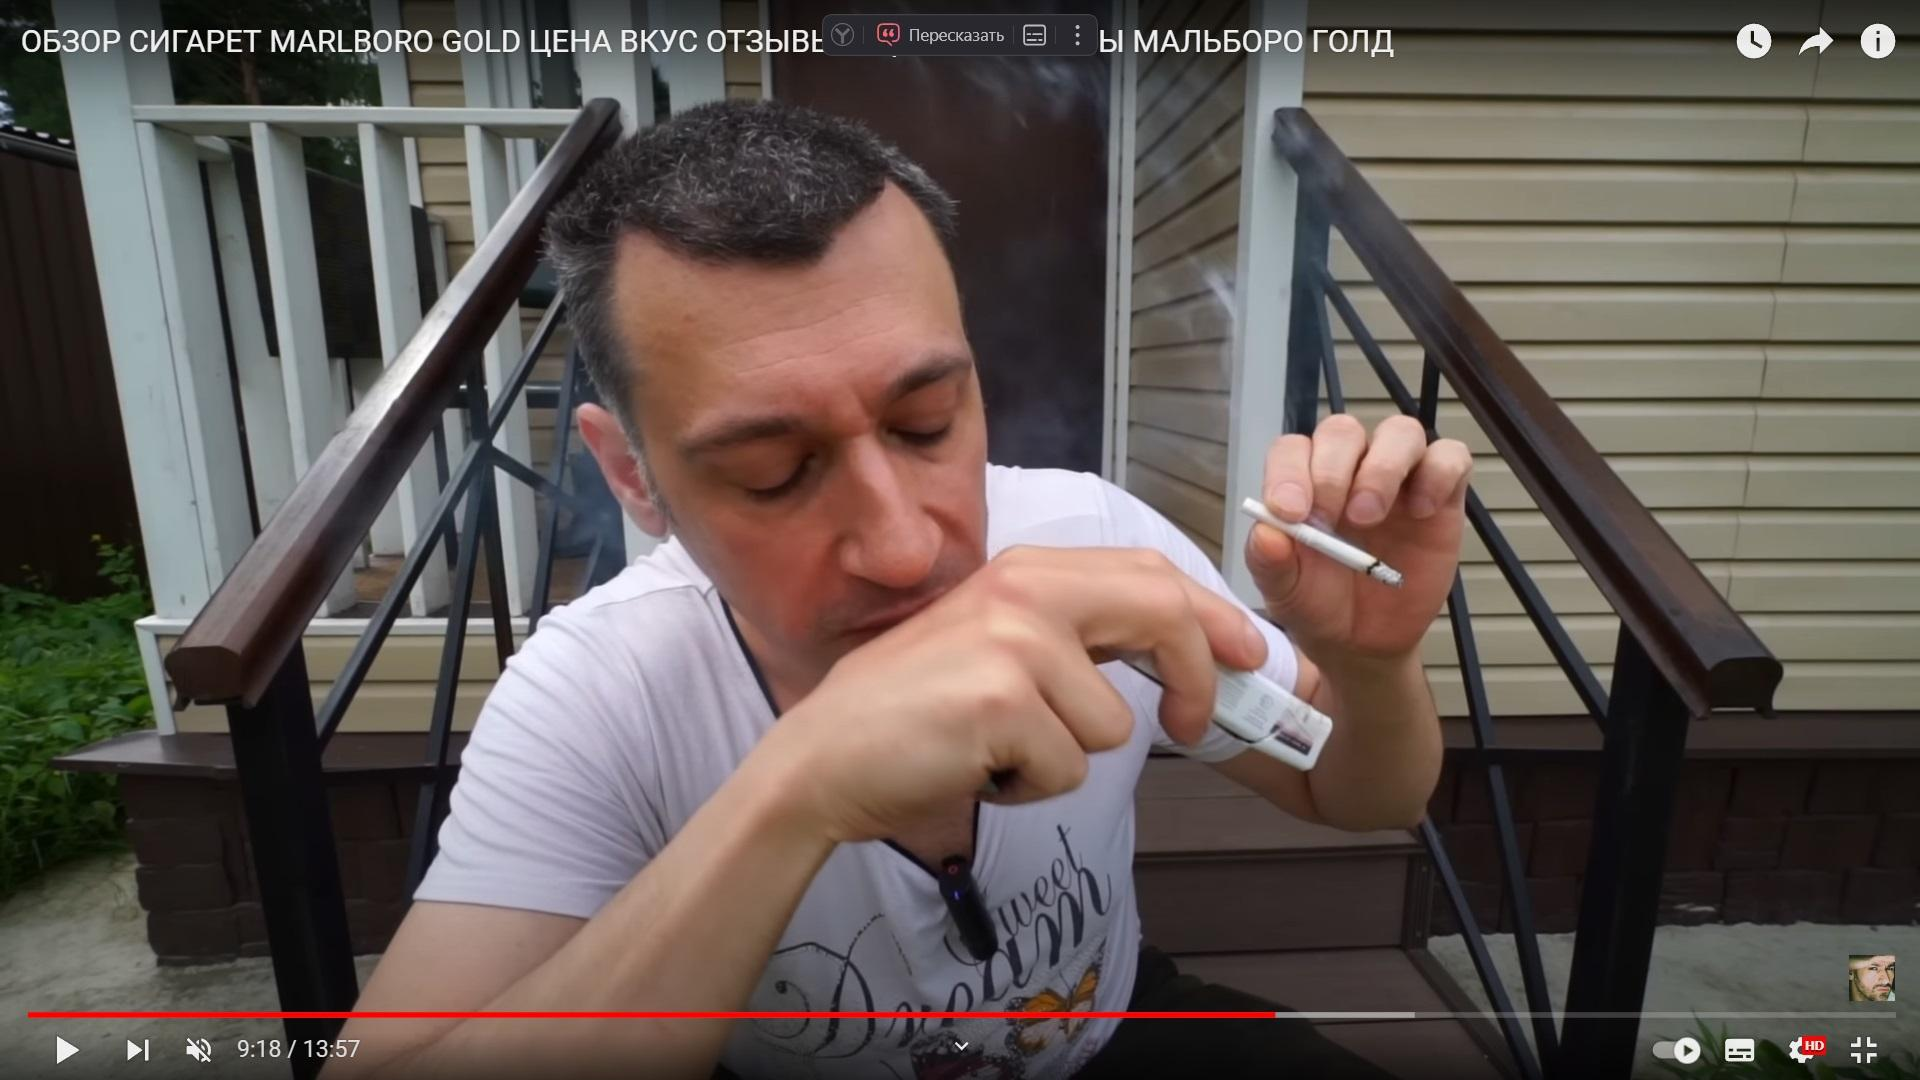cigarette: (1240, 497, 1404, 587)
